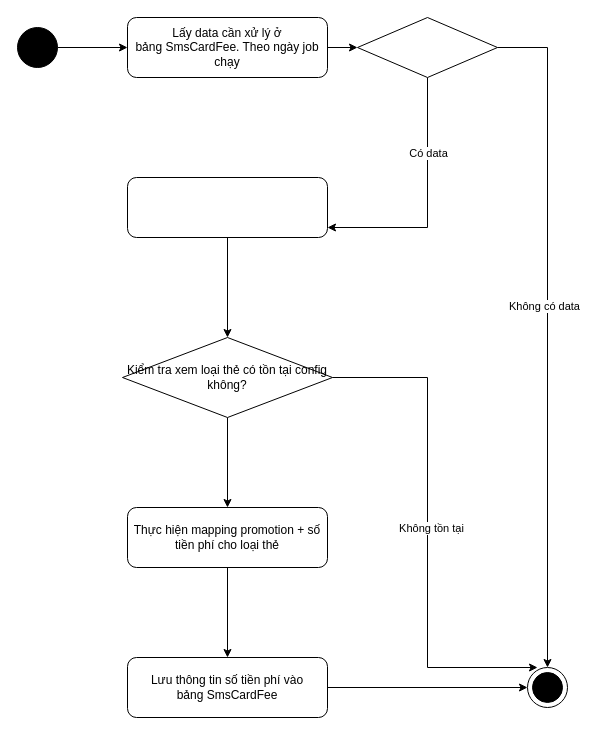
Some shapes in this 597 by 735 pixel diagram are drawn without their labels. Each missing label, with the centre of its shape:
Kiểm tra xem có data không?: the point at 427,47
Lấy tham số config mức phí + promotion code: the point at 227,207
